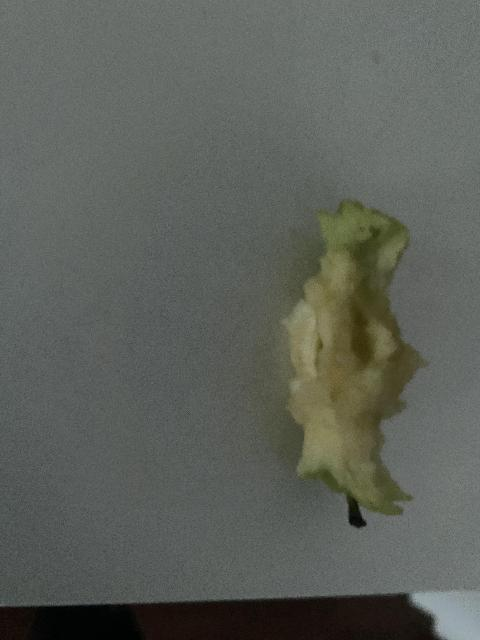Organik: (283, 198, 419, 527)
